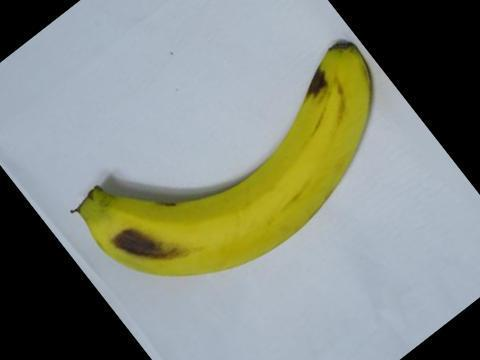freshripe: (58, 27, 393, 293)
